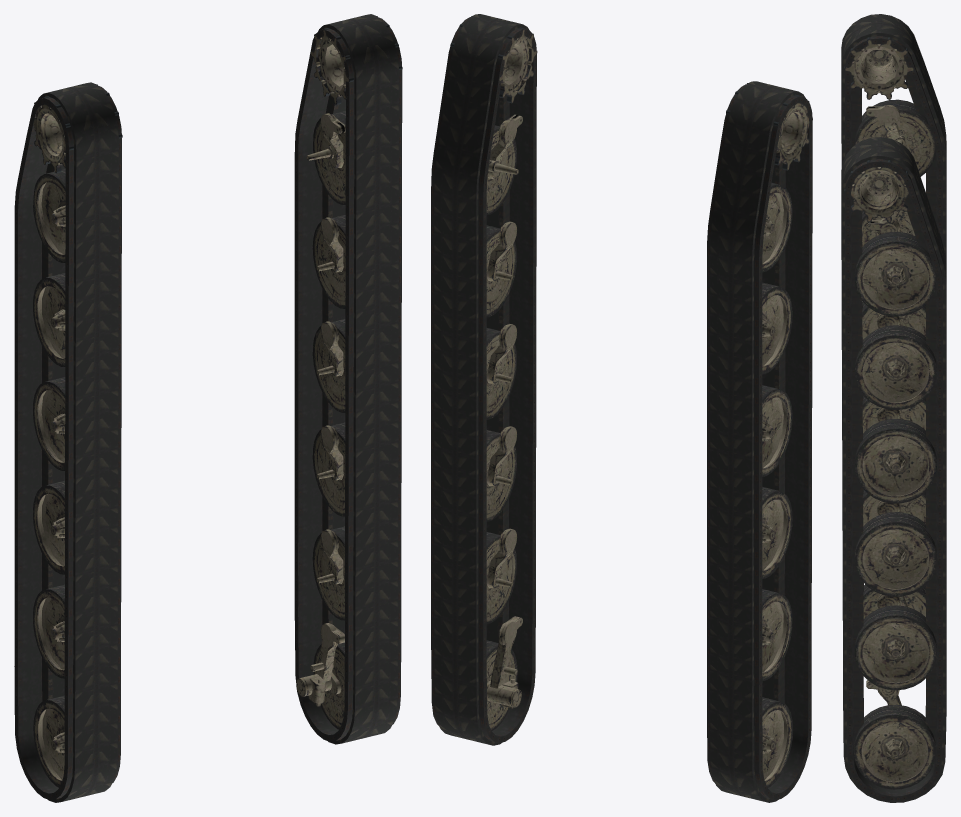
The model's file is Chassis.glb.
3 renders of one model, left to right at view 1: azimuth 30°, elevation 25°; view 2: azimuth 150°, elevation 25°; view 3: azimuth 270°, elevation 25°, orthographic. The views are drawn at different scales.
Parts seen in each view (by area): view 1: set_0_group_0, set_1_group_0, set_3_group_0, set_2_group_0; view 2: set_0_group_0, set_1_group_0, set_3_group_0, set_2_group_0; view 3: set_3_group_0, set_1_group_0, set_2_group_0, set_0_group_0.
Boxes of the visible parts, left/top/right/bottom form: set_0_group_0: left=14, top=82, right=121, bottom=802; set_1_group_0: left=294, top=14, right=402, bottom=744; set_3_group_0: left=296, top=16, right=402, bottom=729; set_2_group_0: left=33, top=84, right=122, bottom=787; set_0_group_0: left=707, top=81, right=812, bottom=802; set_1_group_0: left=431, top=14, right=536, bottom=745; set_3_group_0: left=450, top=16, right=537, bottom=730; set_2_group_0: left=726, top=83, right=812, bottom=787; set_3_group_0: left=844, top=160, right=936, bottom=789; set_1_group_0: left=841, top=137, right=946, bottom=802; set_2_group_0: left=844, top=37, right=935, bottom=618; set_0_group_0: left=841, top=14, right=946, bottom=591.
Bounding box in the file's own units: 3.35 × 6.92 × 1.02.
Materials: 4 (4 with a texture image).
